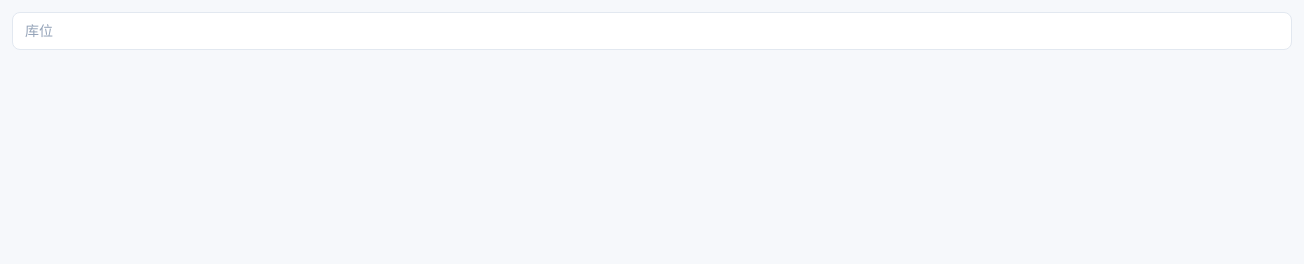
Test: SuggestInput（库位候选输入） › 点击候选填入该值
Click the dropdown.
click(652, 31)  # box [12, 12, 1292, 50]
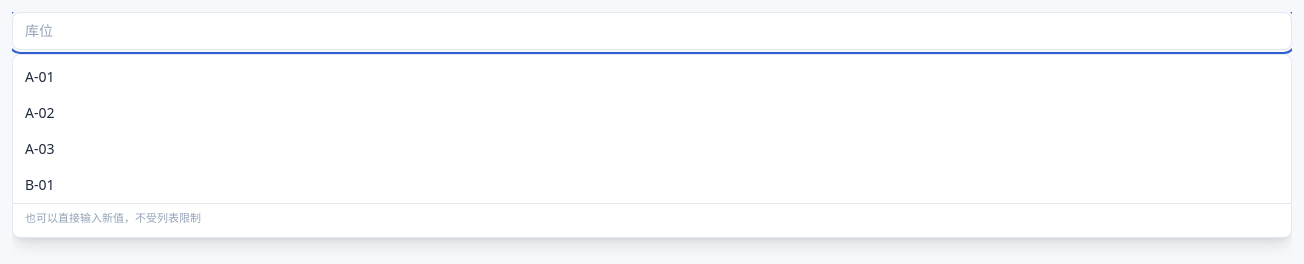
Click the option "A-03".
click(40, 148)  # box [25, 139, 54, 158]
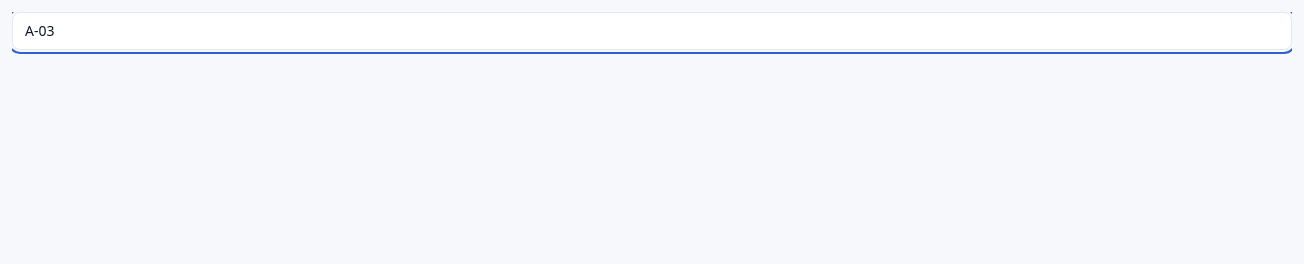
Now the dropdown holds "A-03", box [12, 12, 1292, 50]
